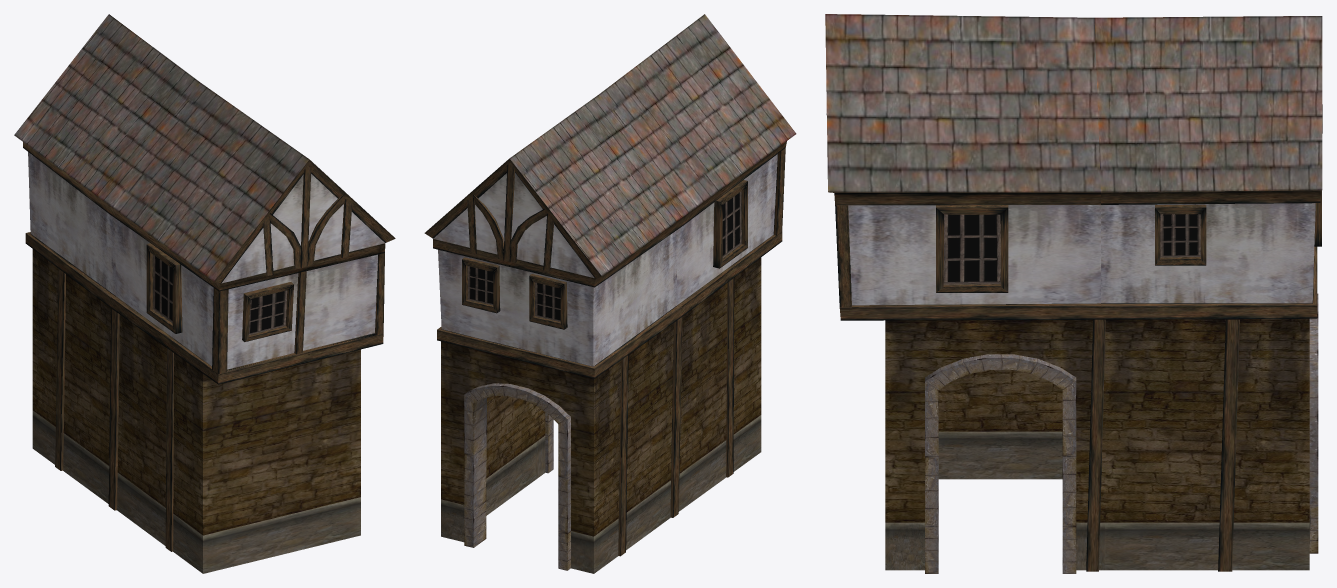
File: english_corner_f.fbx
3 views of the same model, side by side, from view 1: azimuth 30°, elevation 25°; view 2: azimuth 150°, elevation 25°; view 3: azimuth 270°, elevation 25° (orthographic). The views are drawn at different scales.
Visible parts, largest first — view 1: outerWall, polySurface7, polySurface8, polySurface1, foundation, beams_deco_front, window_a_03, window_a_01, beam_vert_tall03, beam_vert_tall05, beam_vert_tall06, beam_vert_tall04; view 2: outerWall, polySurface7, polySurface8, polySurface1, foundation, arch_1, beams_deco_back, window_a_03, window_b_02, window_b_01, beam_vert_tall03, beam_vert_tall05 (+2 smaller); view 3: polySurface7, outerWall, polySurface8, foundation, polySurface1, arch_0, window_a_02, beam_vert_tall02, beam_vert_tall01, window_b_03, arch_1.
Boxes of the visible parts, bbox=[...] form: outerWall: bbox=[32, 249, 360, 535]; polySurface7: bbox=[14, 14, 309, 281]; polySurface8: bbox=[28, 152, 384, 369]; polySurface1: bbox=[23, 142, 395, 384]; foundation: bbox=[32, 410, 360, 573]; beams_deco_front: bbox=[263, 166, 352, 276]; window_a_03: bbox=[146, 243, 182, 333]; window_a_01: bbox=[242, 282, 293, 341]; beam_vert_tall03: bbox=[108, 308, 119, 510]; beam_vert_tall05: bbox=[55, 269, 65, 470]; beam_vert_tall06: bbox=[165, 348, 173, 551]; beam_vert_tall04: bbox=[294, 271, 306, 354]; outerWall: bbox=[441, 257, 761, 536]; polySurface7: bbox=[509, 14, 796, 275]; polySurface8: bbox=[433, 154, 777, 366]; polySurface1: bbox=[424, 141, 786, 378]; foundation: bbox=[441, 415, 761, 573]; arch_1: bbox=[464, 383, 570, 570]; beams_deco_back: bbox=[467, 163, 553, 271]; window_a_03: bbox=[713, 180, 747, 268]; window_b_02: bbox=[529, 274, 567, 329]; window_b_01: bbox=[462, 257, 500, 313]; beam_vert_tall03: bbox=[670, 317, 682, 517]; beam_vert_tall05: bbox=[618, 355, 628, 556]; polySurface7: bbox=[825, 14, 1322, 192]; outerWall: bbox=[885, 318, 1309, 522]; polySurface8: bbox=[848, 203, 1315, 305]; foundation: bbox=[885, 431, 1310, 570]; polySurface1: bbox=[829, 190, 1320, 320]; arch_0: bbox=[925, 354, 1076, 573]; window_a_02: bbox=[936, 205, 1008, 292]; beam_vert_tall02: bbox=[1218, 319, 1239, 571]; beam_vert_tall01: bbox=[1086, 319, 1105, 571]; window_b_03: bbox=[1155, 205, 1206, 265]; arch_1: bbox=[1309, 293, 1318, 553].
Bounding box in the file's own units: 2446 × 5286 × 4666.
Materials: 1 (1 with a texture image).
